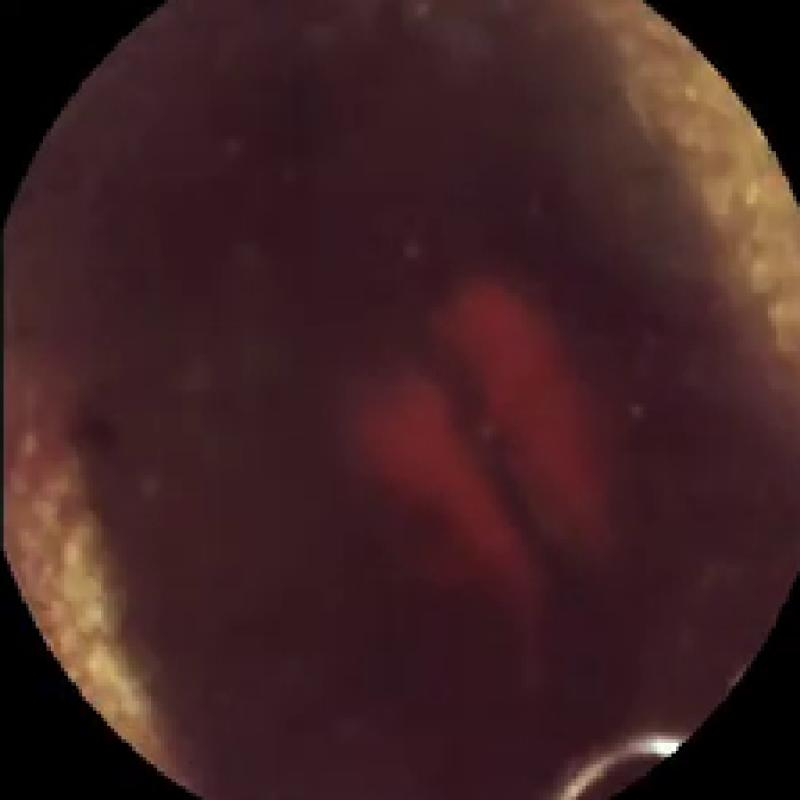bleeding: (343, 275, 632, 654)
